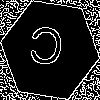C: (25, 25, 66, 76)
